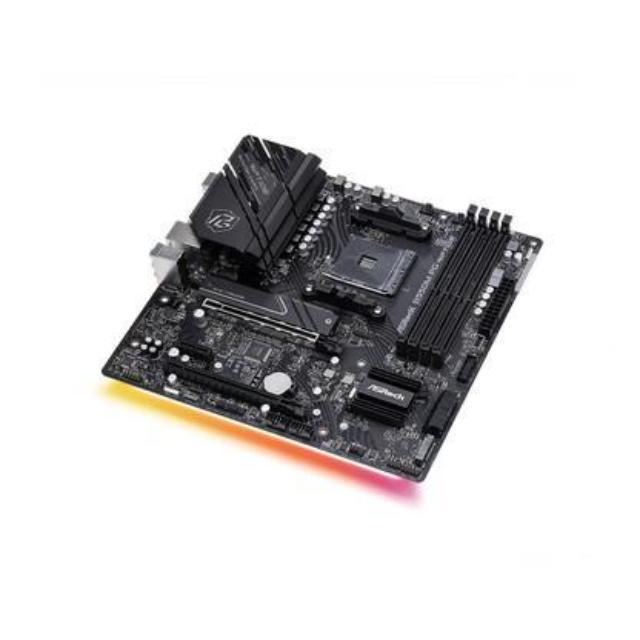Mainboard: (98, 129, 542, 497)
